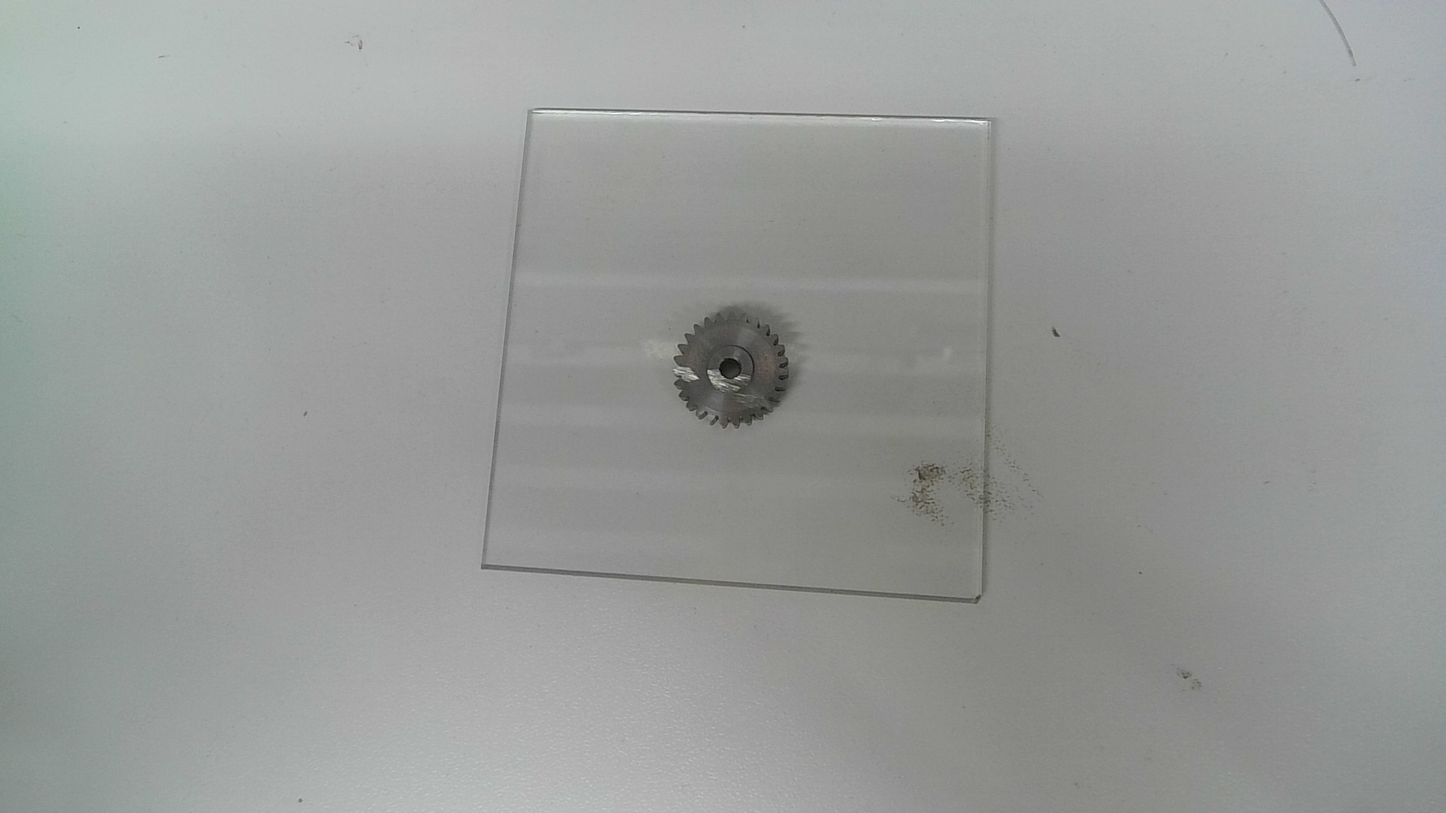gear: (672, 311, 790, 430)
